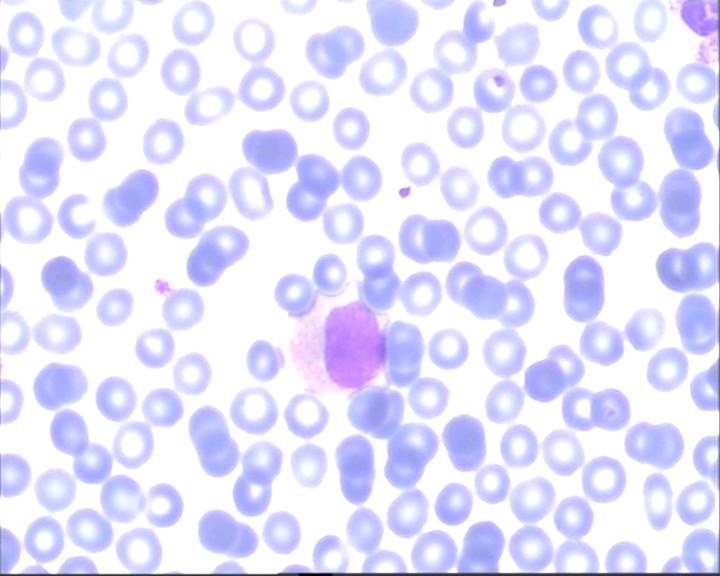mono: (283, 282, 391, 398)
